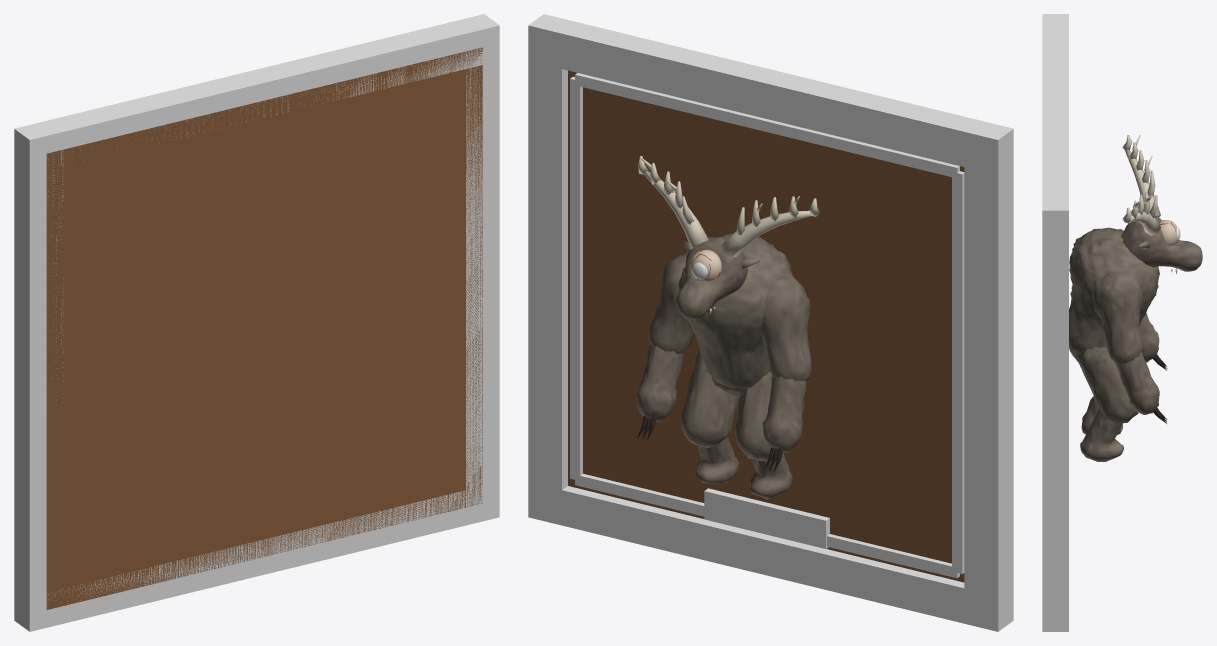
Rendered from deerclops_trophy_v0.glb.
3 renders of one model, left to right at view 1: azimuth 30°, elevation 25°; view 2: azimuth 150°, elevation 25°; view 3: azimuth 270°, elevation 25°, orthographic. The views are drawn at different scales.
Visible parts, largest first — view 1: deerclops_trophy_v0; view 2: deerclops_trophy_v0; view 3: deerclops_trophy_v0.
Part boxes in pixels (left/top/right/bottom): deerclops_trophy_v0: left=14, top=14, right=499, bottom=631; deerclops_trophy_v0: left=528, top=14, right=1013, bottom=631; deerclops_trophy_v0: left=1042, top=14, right=1202, bottom=631.
Bounding box in the file's own units: 1.39 × 1.39 × 0.48.
